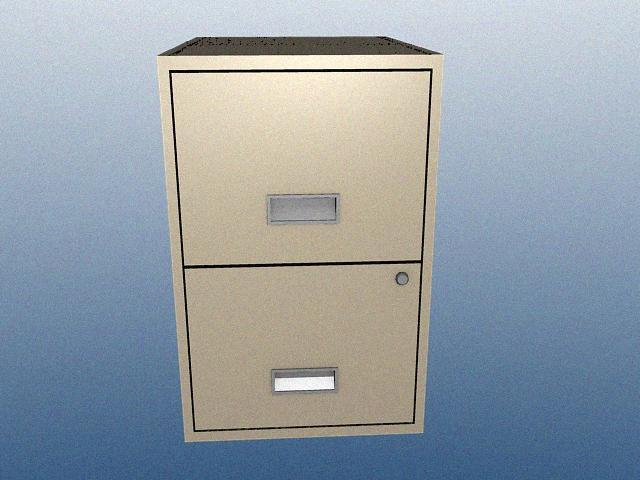cabinet_door: (177, 71, 427, 263), (189, 262, 418, 426)
handle: (264, 191, 341, 225), (269, 366, 337, 395)
